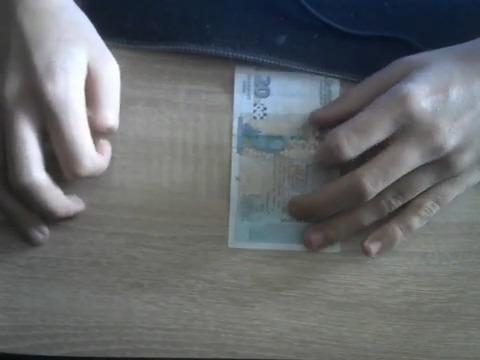20leva: (228, 66, 339, 251)
